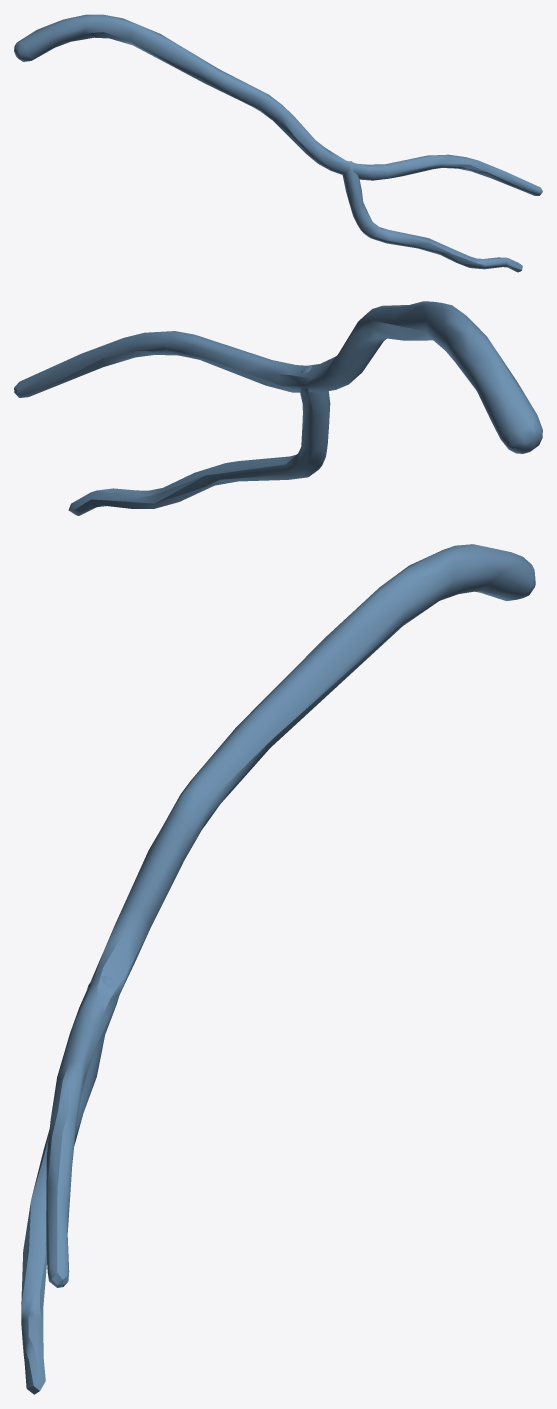
Rendered from anterior-cardiac-vein.glb.
3 renders of one model, top to bottom at view 1: azimuth 30°, elevation 25°; view 2: azimuth 150°, elevation 25°; view 3: azimuth 270°, elevation 25°, orthographic. The views are drawn at different scales.
Parts seen in each view (by area): view 1: FMA76767; view 2: FMA76767; view 3: FMA76767.
Boxes of the visible parts, x1=… form: FMA76767: x1=14, y1=14, x2=542, y2=272; FMA76767: x1=14, y1=301, x2=542, y2=515; FMA76767: x1=21, y1=544, x2=535, y2=1394.
Bounding box in the file's own units: 0.3312 × 0.2003 × 0.1787.
